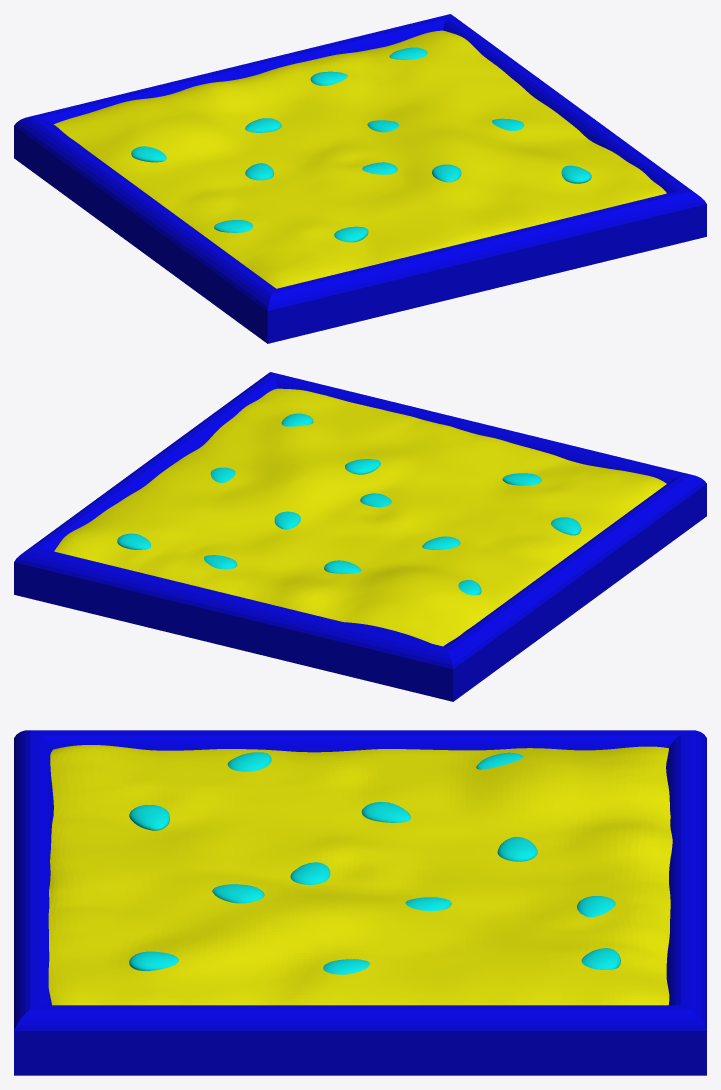
The model's file is Stage_2.fbx.
3 renders of one model, top to bottom at view 1: azimuth 30°, elevation 25°; view 2: azimuth 150°, elevation 25°; view 3: azimuth 270°, elevation 25°, orthographic. The views are drawn at different scales.
Parts seen in each view (by area): view 1: pasted__Bed_HPdirt, pasted__baseBed_HP; view 2: pasted__Bed_HPdirt, pasted__baseBed_HP; view 3: pasted__Bed_HPdirt, pasted__baseBed_HP, Strawberry_Seed_1_Stage_1, Strawberry_Seed_4_Stage_1, Strawberry_Seed_6_Stage_1, Strawberry_Seed_3_Stage_1, Strawberry_Seed_1_Stage_2, Strawberry_Seed_5_Stage_1, Strawberry_Seed_5_Stage_2, Strawberry_Seed_4_Stage_2, Strawberry_Seed_7_Stage_3, Strawberry_Seed_7_Stage_2.
Boxes of the visible parts, <box> form: pasted__Bed_HPdirt: <box>54,30,666,288</box>; pasted__baseBed_HP: <box>14,14,706,343</box>; pasted__Bed_HPdirt: <box>54,388,666,646</box>; pasted__baseBed_HP: <box>14,372,706,701</box>; pasted__Bed_HPdirt: <box>48,745,672,1005</box>; pasted__baseBed_HP: <box>14,730,706,1075</box>; Strawberry_Seed_1_Stage_1: <box>129,805,169,830</box>; Strawberry_Seed_4_Stage_1: <box>361,802,410,822</box>; Strawberry_Seed_6_Stage_1: <box>212,884,264,903</box>; Strawberry_Seed_3_Stage_1: <box>497,837,537,861</box>; Strawberry_Seed_1_Stage_2: <box>129,951,178,970</box>; Strawberry_Seed_5_Stage_1: <box>290,862,330,884</box>; Strawberry_Seed_5_Stage_2: <box>581,948,620,969</box>; Strawberry_Seed_4_Stage_2: <box>227,752,271,771</box>; Strawberry_Seed_7_Stage_3: <box>577,896,615,917</box>; Strawberry_Seed_7_Stage_2: <box>323,959,369,974</box>.
Size of the model in its own units: 4.24 by 0.4734 by 4.24.
